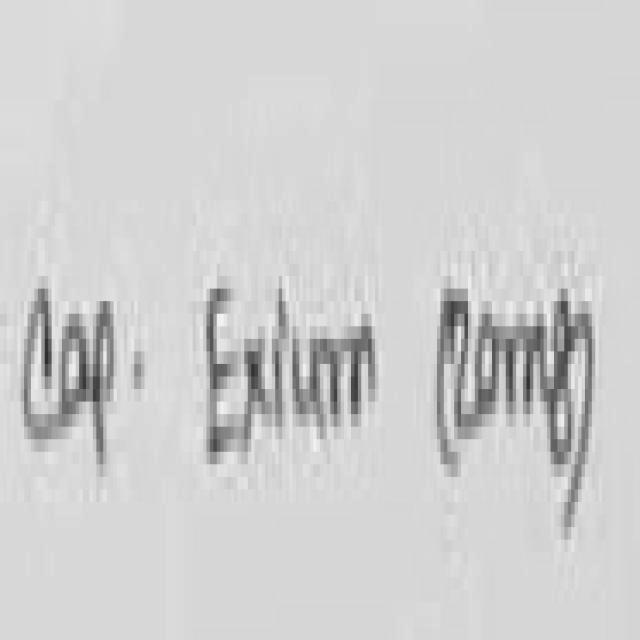0: (478, 314, 499, 408)
2: (442, 284, 477, 432)
C: (24, 289, 52, 439)
E: (206, 289, 237, 458)
a: (62, 314, 91, 415)
g: (548, 301, 571, 466)
i: (275, 339, 286, 427), (279, 289, 289, 333)
m: (330, 326, 378, 420), (506, 326, 547, 414)
p: (93, 301, 114, 464)
u: (292, 339, 323, 427)
x: (240, 328, 274, 445)
